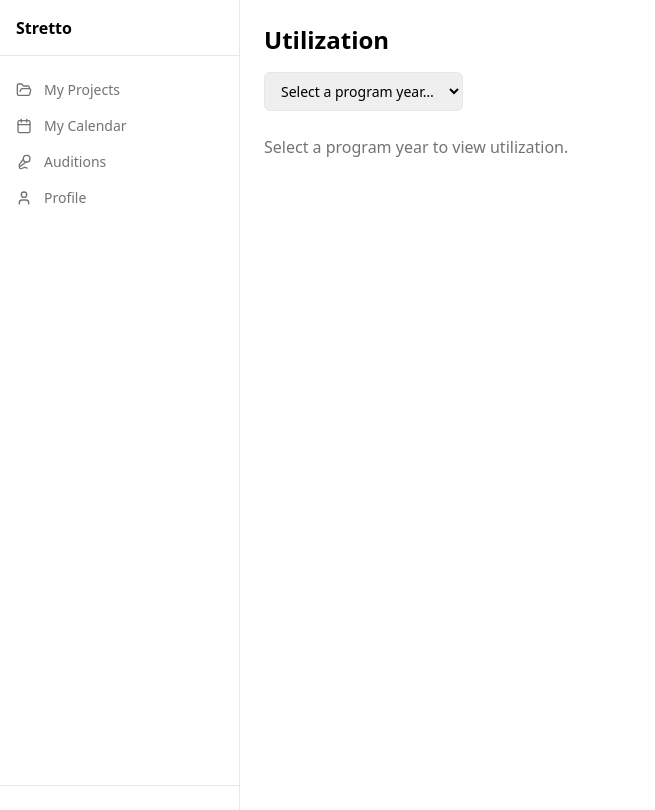
Scenario: shows empty state when grid has no members
Select "2024-2025 (current)" in the dropdown with test id "program-year-select". click: [364, 92]
box: [264, 72, 463, 111]
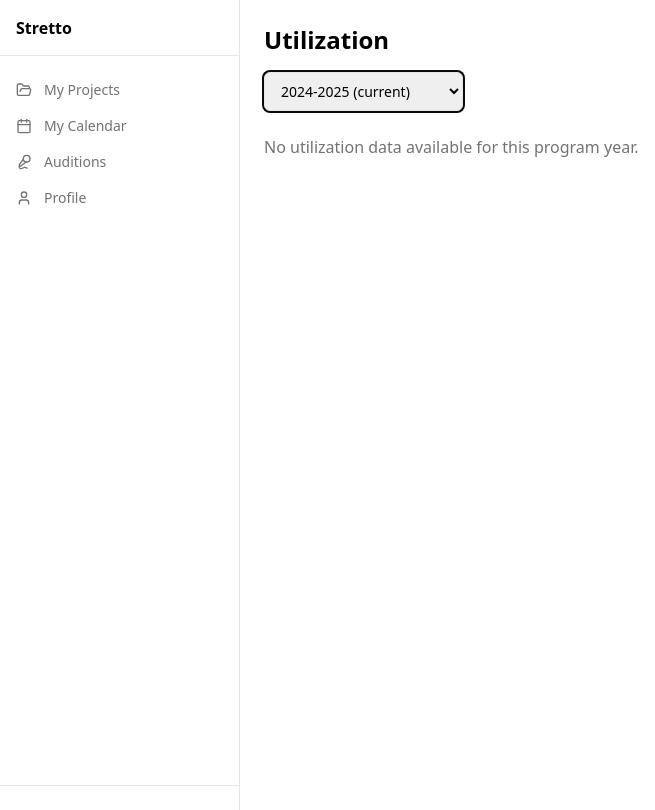
Now the text "No utilization data available for this program year." is shown, box [264, 136, 638, 158]
